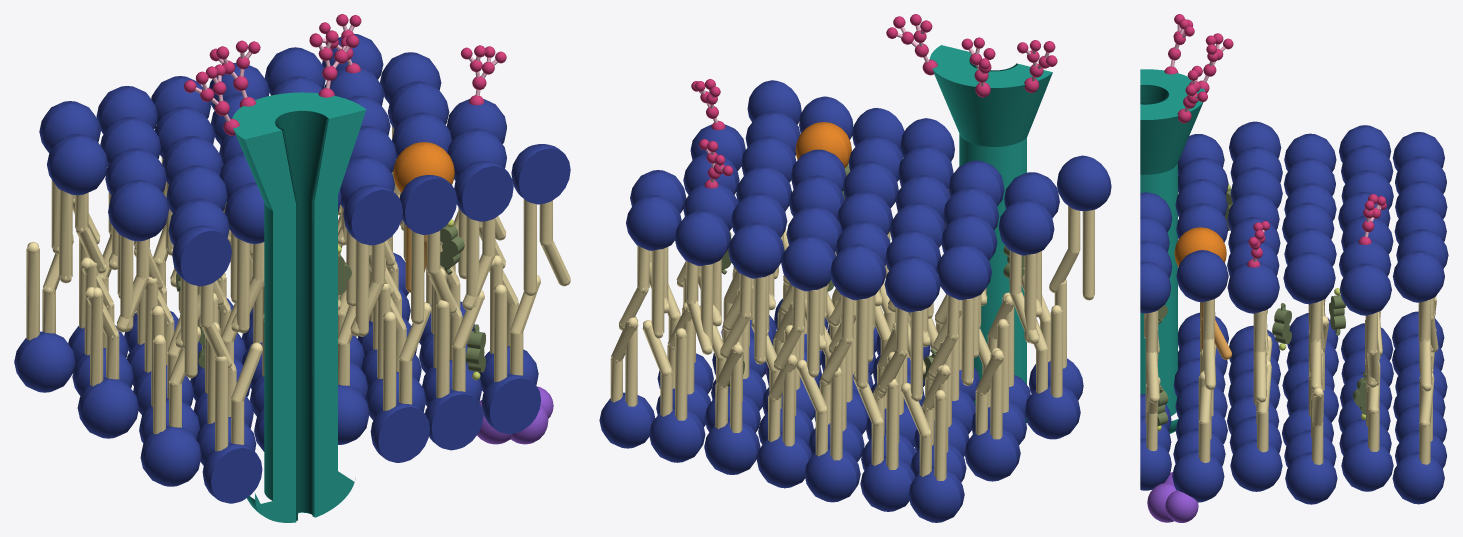
The model's file is lipid-bilayer.glb.
The picture shows the model from 3 angles, left to right: view 1: azimuth 30°, elevation 25°; view 2: azimuth 150°, elevation 25°; view 3: azimuth 270°, elevation 25°; orthographic projection. The views are drawn at different scales.
Parts seen in each view (by area): view 1: OuterMonolayerHeads, HydrophobicCore, IntegralProtein, InnerMonolayerHeads, ProteinCarbohydrateChains, PhospholipidMolecule, CholesterolMolecules, LipidCarbohydrateChains, PeripheralProtein; view 2: OuterMonolayerHeads, HydrophobicCore, InnerMonolayerHeads, IntegralProtein, ProteinCarbohydrateChains, LipidCarbohydrateChains, PhospholipidMolecule, CholesterolMolecules; view 3: OuterMonolayerHeads, InnerMonolayerHeads, HydrophobicCore, IntegralProtein, CholesterolMolecules, ProteinCarbohydrateChains, PhospholipidMolecule, PeripheralProtein, LipidCarbohydrateChains.
Boxes of the visible parts, x1,y1,x2,y2 form: OuterMonolayerHeads: (39, 34, 570, 286); HydrophobicCore: (26, 126, 570, 451); IntegralProtein: (232, 92, 366, 522); InnerMonolayerHeads: (14, 252, 540, 503); ProteinCarbohydrateChains: (183, 30, 359, 135); PhospholipidMolecule: (393, 142, 454, 292); CholesterolMolecules: (176, 219, 485, 380); LipidCarbohydrateChains: (309, 14, 506, 105); PeripheralProtein: (477, 386, 553, 444); OuterMonolayerHeads: (626, 80, 1111, 312); HydrophobicCore: (610, 206, 1094, 480); InnerMonolayerHeads: (599, 298, 1083, 522); IntegralProtein: (929, 45, 1052, 422); ProteinCarbohydrateChains: (886, 14, 1057, 97); LipidCarbohydrateChains: (691, 79, 733, 188); PhospholipidMolecule: (795, 122, 851, 167); CholesterolMolecules: (721, 163, 1024, 387); OuterMonolayerHeads: (1140, 121, 1448, 315); InnerMonolayerHeads: (1140, 311, 1447, 504); HydrophobicCore: (1144, 295, 1438, 464); IntegralProtein: (1140, 69, 1205, 433); CholesterolMolecules: (1157, 184, 1366, 431); ProteinCarbohydrateChains: (1164, 14, 1233, 123); PhospholipidMolecule: (1174, 227, 1231, 359); PeripheralProtein: (1147, 472, 1198, 522); LipidCarbohydrateChains: (1247, 194, 1386, 267).
Bounding box in the file's own units: 7.49 × 8.13 × 5.88.
